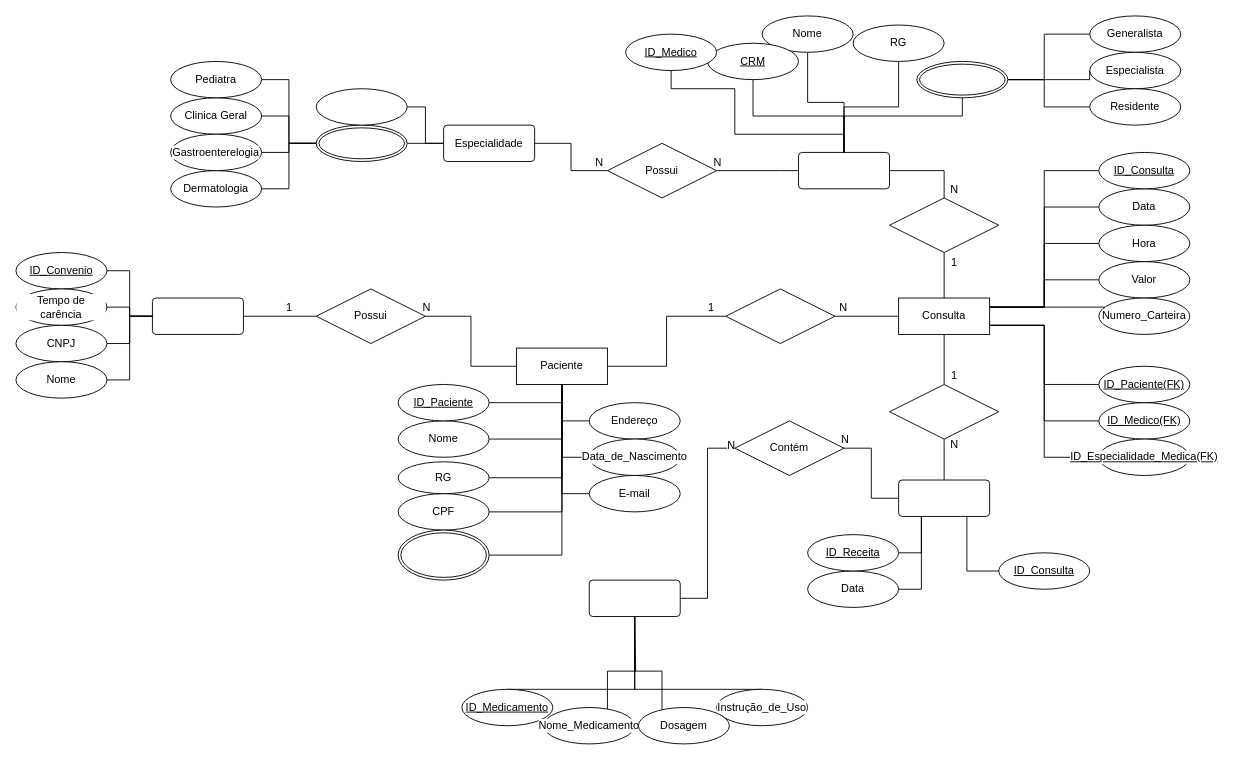
This 1234x760 diagram has some shape labels left out. The shapes that lost their labels are listed below. From the top down, each one's centre as x and y in pixels, then its label:
At (x=962, y=79): "Attribute".
At (x=361, y=106): "ID_Especialidade_Medica".
At (x=361, y=143): "Especialização".
At (x=844, y=170): "Médico".
At (x=944, y=225): "Realiza".
At (x=197, y=315): "Convênio".
At (x=780, y=316): "Faz".
At (x=944, y=411): "Gera".
At (x=944, y=497): "Receita".
At (x=443, y=554): "Telefones de contato".
At (x=634, y=598): "Medicamento".
